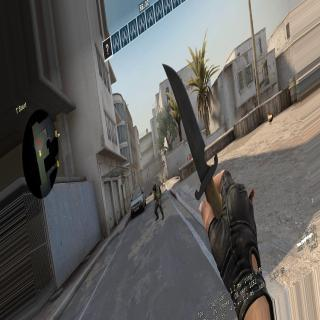CT-Body: (152, 180, 163, 220)
CT-Head: (152, 182, 156, 190)
